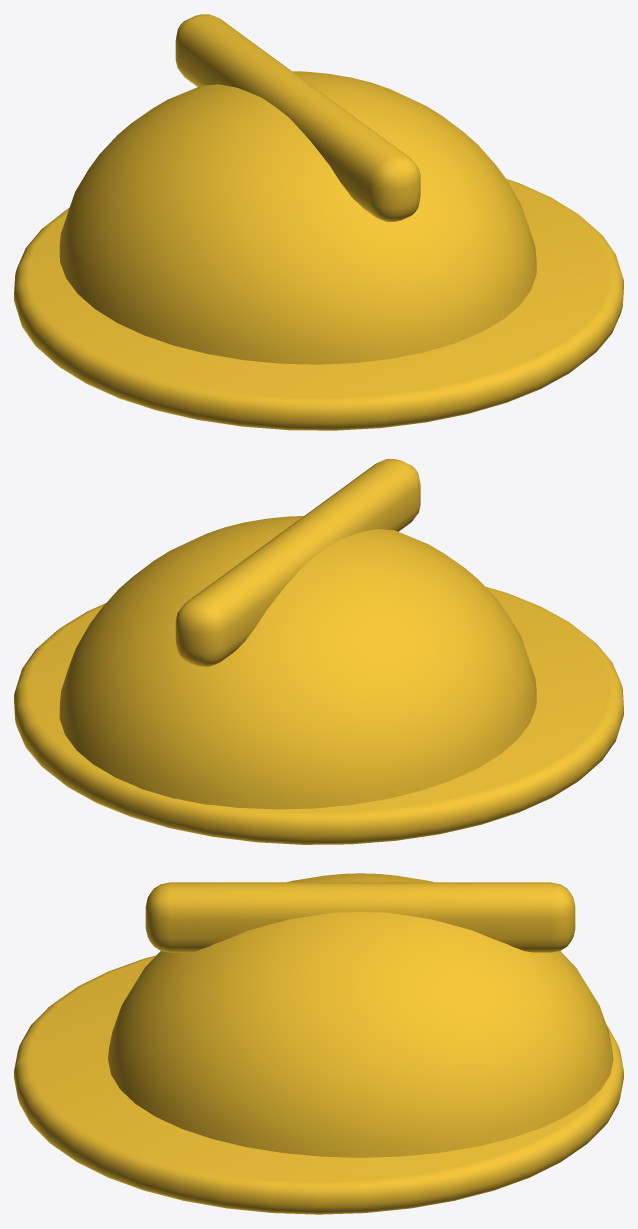
Rendered from capacete.glb.
3 views of the same model, one above another, from view 1: azimuth 30°, elevation 25°; view 2: azimuth 150°, elevation 25°; view 3: azimuth 270°, elevation 25° (orthographic).
Visible parts, largest first — view 1: capacete_casco, capacete_aba, Cube; view 2: capacete_casco, capacete_aba, Cube; view 3: capacete_casco, capacete_aba, Cube.
Boxes of the visible parts, bbox=[...] form: capacete_casco: bbox=[59, 71, 536, 364]; capacete_aba: bbox=[14, 179, 623, 430]; Cube: bbox=[175, 14, 420, 221]; capacete_casco: bbox=[59, 516, 536, 809]; capacete_aba: bbox=[14, 586, 623, 844]; Cube: bbox=[175, 459, 420, 666]; capacete_casco: bbox=[108, 873, 613, 1157]; capacete_aba: bbox=[14, 955, 623, 1214]; Cube: bbox=[145, 882, 575, 952].
Size of the model in its own units: 0.88 by 0.325 by 0.88.
